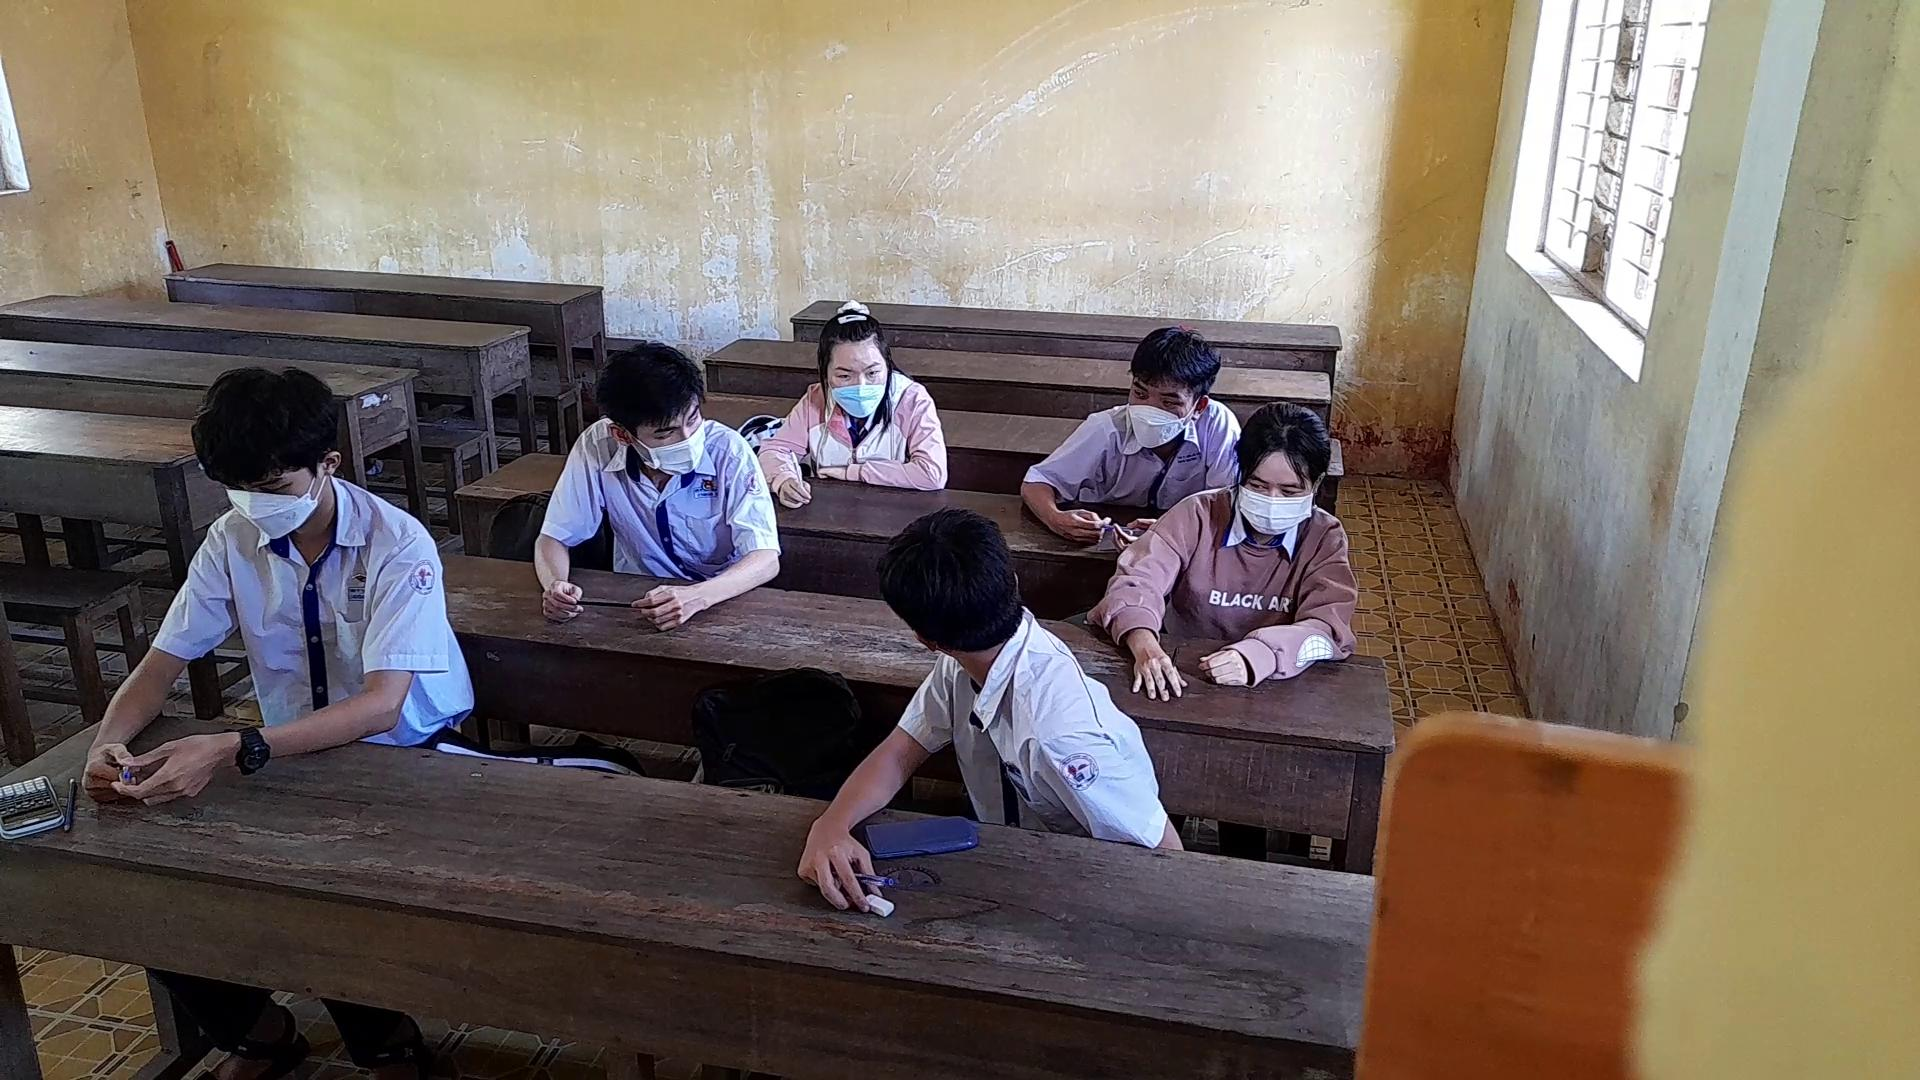Hand Under Table: (1005, 698, 1217, 853)
Look Around: (878, 502, 1021, 658), (584, 340, 727, 495)
Normal: (82, 352, 484, 812), (1096, 389, 1378, 694), (741, 286, 960, 512)
